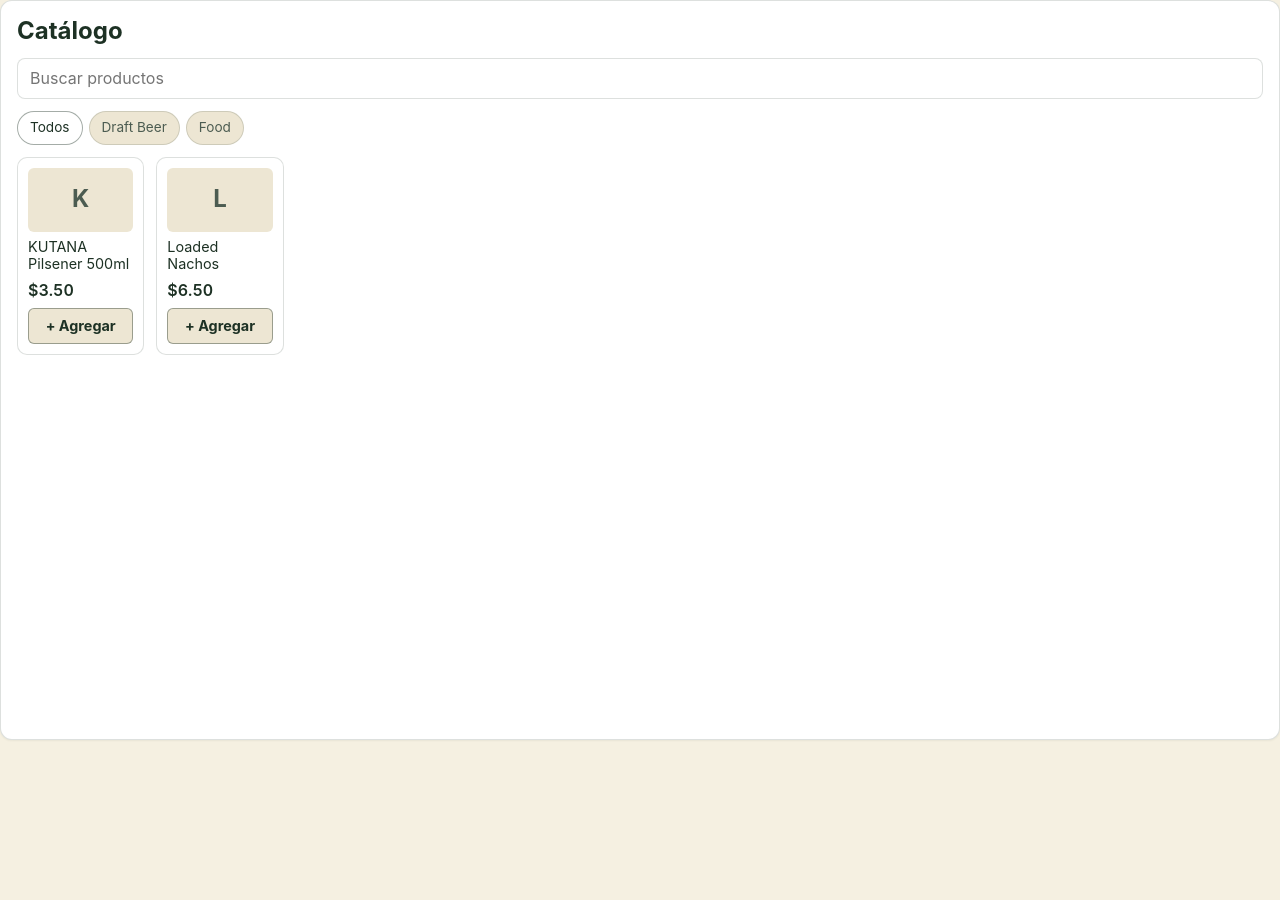
Test: AddItemPanel › shows one inline undo action for a slow addition and no Sonner toast
Click the button with aria-label "Agregar Loaded Nachos".
click(220, 256)  # box left=156, top=157, right=284, bottom=355
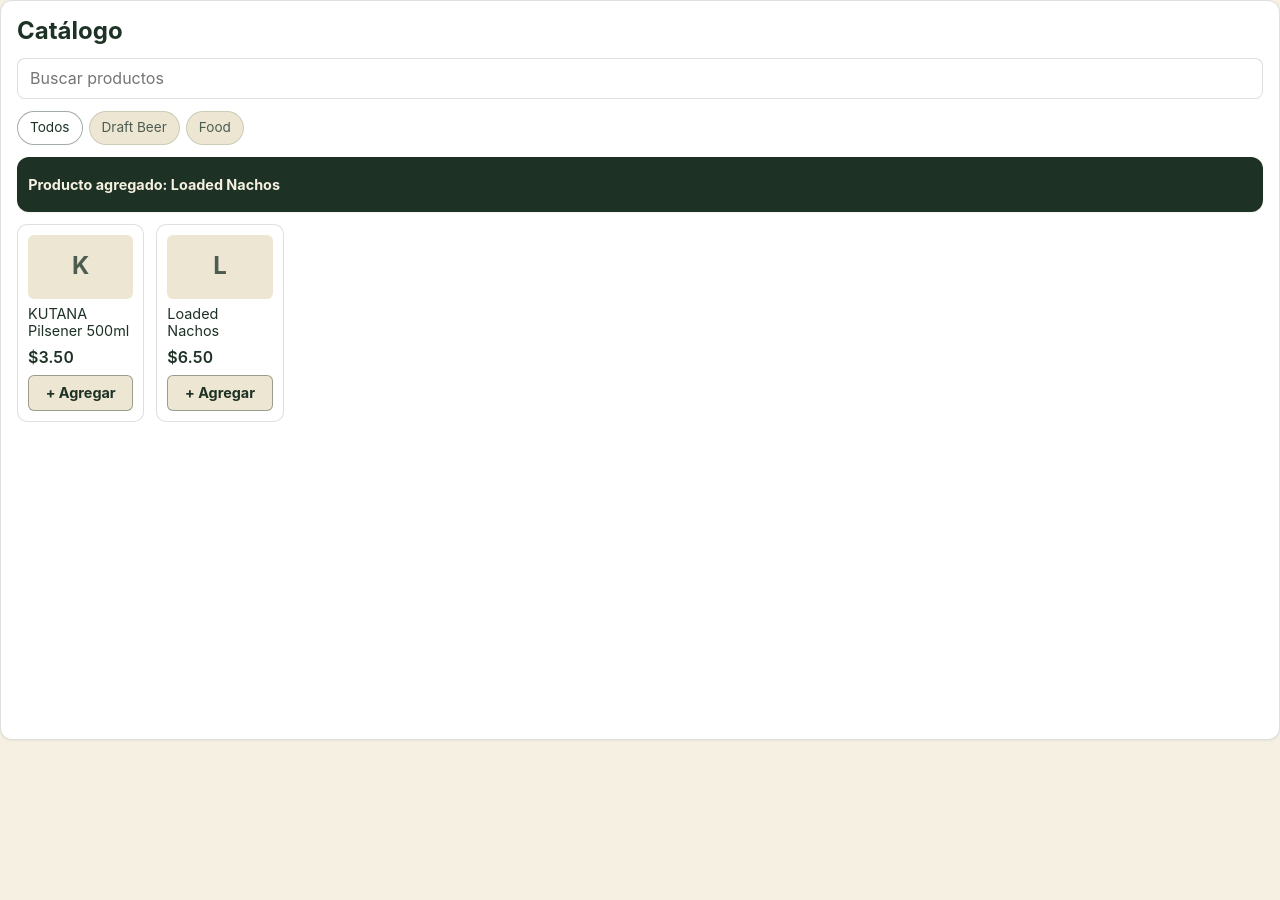
expect the message shows "Producto agregado: Loaded Nachos": met, box left=28, top=176, right=280, bottom=193
